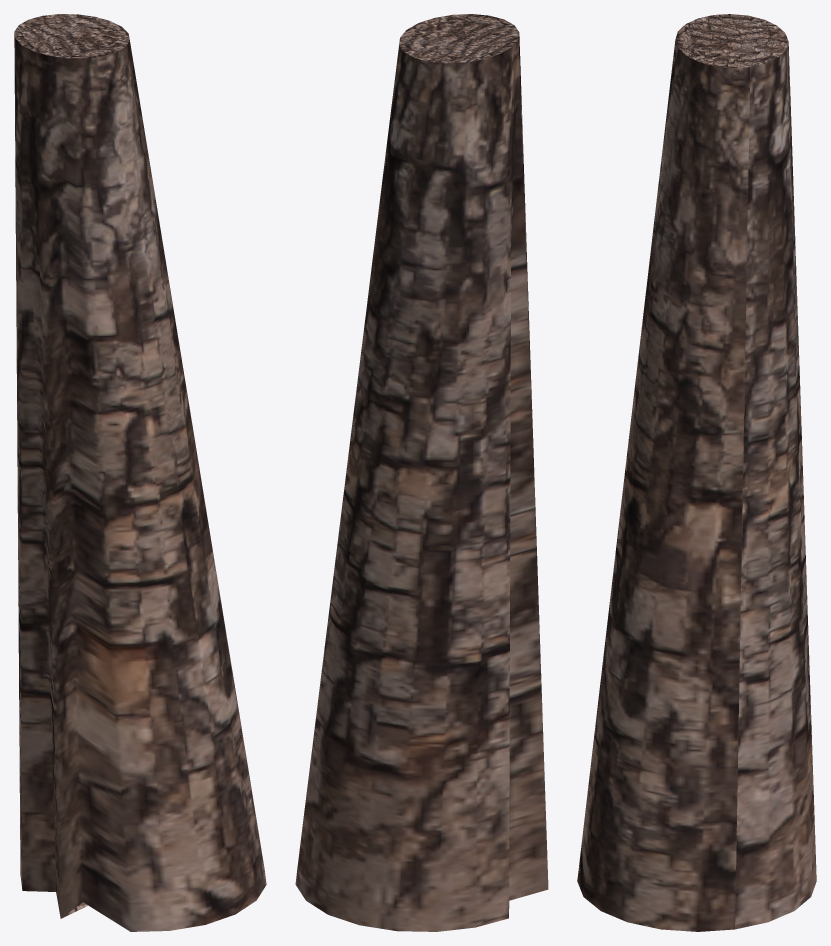
The model's file is trunk.obj.
The picture shows the model from 3 angles, left to right: view 1: azimuth 30°, elevation 25°; view 2: azimuth 150°, elevation 25°; view 3: azimuth 270°, elevation 25°; orthographic projection. The views are drawn at different scales.
Visible parts, largest first — view 1: pCylinder1; view 2: pCylinder1; view 3: pCylinder1.
Boxes of the visible parts, x1,y1,x2,y2 form: pCylinder1: [14, 14, 266, 931]; pCylinder1: [295, 14, 548, 931]; pCylinder1: [577, 14, 816, 931].
Size of the model in its own units: 1.64 by 6.29 by 1.67.
1 material, 1 textured.
